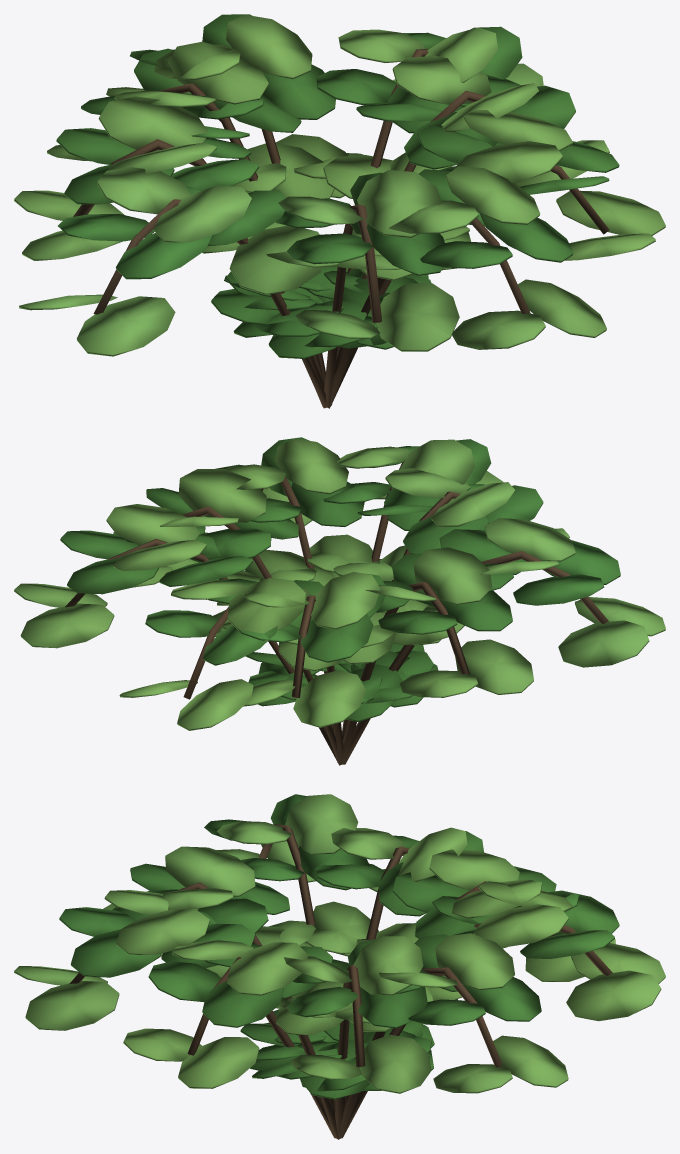
File: grotto_fern.glb
3 renders of one model, top to bottom at view 1: azimuth 30°, elevation 25°; view 2: azimuth 150°, elevation 25°; view 3: azimuth 270°, elevation 25°, orthographic. The views are drawn at different scales.
Parts seen in each view (by area): view 1: grotto_fern; view 2: grotto_fern; view 3: grotto_fern.
Part boxes in pixels (left/top/right/bottom): grotto_fern: left=14, top=14, right=665, bottom=408; grotto_fern: left=14, top=437, right=665, bottom=765; grotto_fern: left=14, top=794, right=665, bottom=1139.
Size of the model in its own units: 5.4 by 2.36 by 5.65.
